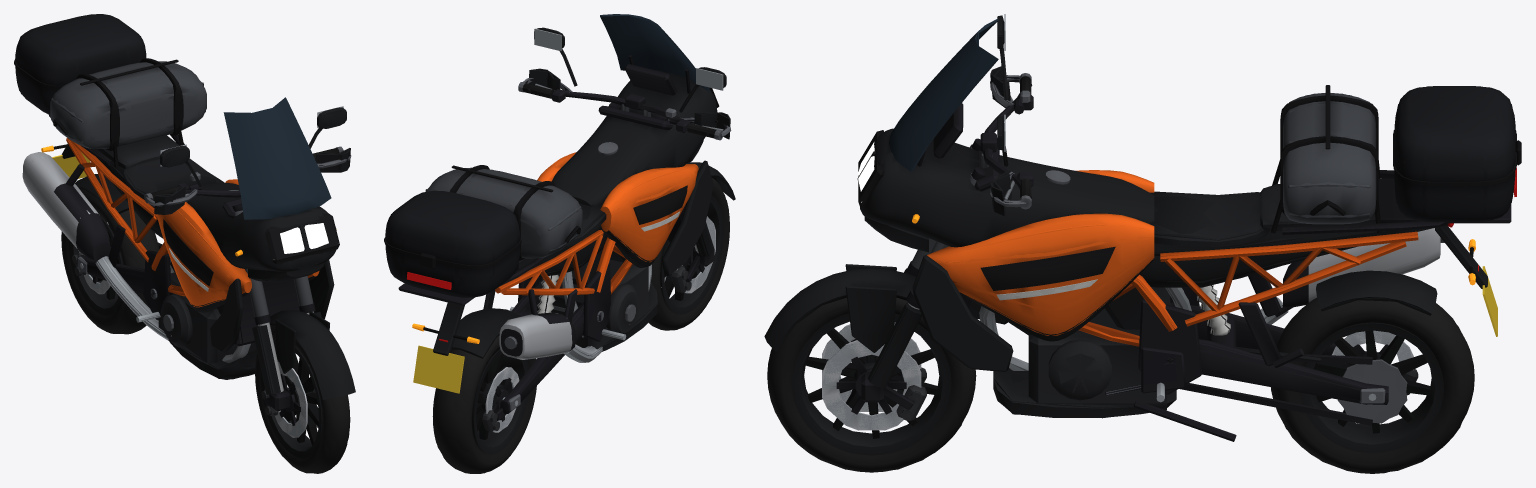
The model's file is bike16_superadv.glb.
3 views of the same model, side by side, from view 1: azimuth 30°, elevation 25°; view 2: azimuth 150°, elevation 25°; view 3: azimuth 270°, elevation 25° (orthographic). The views are drawn at different scales.
Visible parts, largest first — view 1: body (×2), luggage (×2), wheel_front (×2), wheel_rear (×2), handlebar (×2), fork_right (×2), disc_front (×2), headlight, fork_left; view 2: body (×2), luggage (×2), wheel_rear (×2), handlebar (×2), wheel_front (×2), disc_rear (×2), fork_right (×2), disc_front; view 3: body (×2), luggage (×2), wheel_rear (×2), wheel_front (×2), disc_front (×2), handlebar (×2), fork_left (×2).
Part boxes in pixels (x1,y1,x2,y2): body (×2): [22, 97, 355, 399]; luggage (×2): [14, 14, 206, 167]; wheel_front (×2): [255, 325, 350, 473]; wheel_rear (×2): [61, 189, 159, 334]; handlebar (×2): [144, 106, 351, 214]; fork_right (×2): [232, 204, 290, 415]; disc_front (×2): [275, 362, 322, 437]; headlight: [280, 223, 328, 253]; fork_left: [293, 276, 321, 317]; body (×2): [398, 14, 735, 431]; luggage (×2): [384, 165, 582, 297]; wheel_rear (×2): [432, 335, 536, 473]; handlebar (×2): [518, 27, 731, 140]; wheel_front (×2): [648, 178, 729, 330]; disc_rear (×2): [485, 367, 519, 432]; fork_right (×2): [654, 114, 714, 292]; disc_front: [662, 216, 715, 293]; body (×2): [764, 19, 1511, 441]; luggage (×2): [1271, 85, 1521, 233]; wheel_rear (×2): [1271, 297, 1474, 473]; wheel_front (×2): [767, 297, 976, 472]; disc_front (×2): [822, 324, 921, 430]; handlebar (×2): [980, 14, 1033, 216]; fork_left (×2): [861, 167, 985, 420].
Size of the model in its own units: 0.942 by 1.48 by 2.35.
